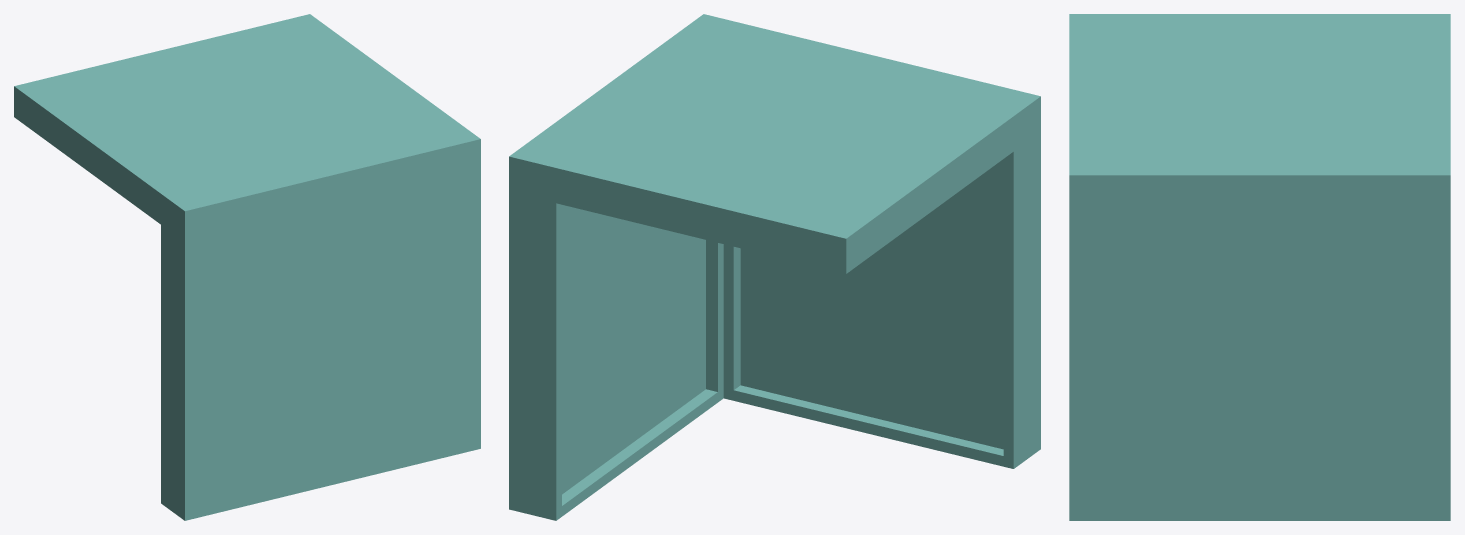
File: EspacioInicialEsquinaCierreInteriorAltoNS.gltf
3 views of the same model, side by side, from view 1: azimuth 30°, elevation 25°; view 2: azimuth 150°, elevation 25°; view 3: azimuth 270°, elevation 25° (orthographic). The views are drawn at different scales.
Visible parts, largest first — view 1: pared interior esquina alta n2; view 2: pared interior esquina alta n2; view 3: pared interior esquina alta n2.
Part boxes in pixels (<box>): pared interior esquina alta n2: <box>14,14,480,520</box>; pared interior esquina alta n2: <box>509,14,1040,520</box>; pared interior esquina alta n2: <box>1069,14,1450,520</box>.
Size of the model in its own units: 2 by 2 by 2.
